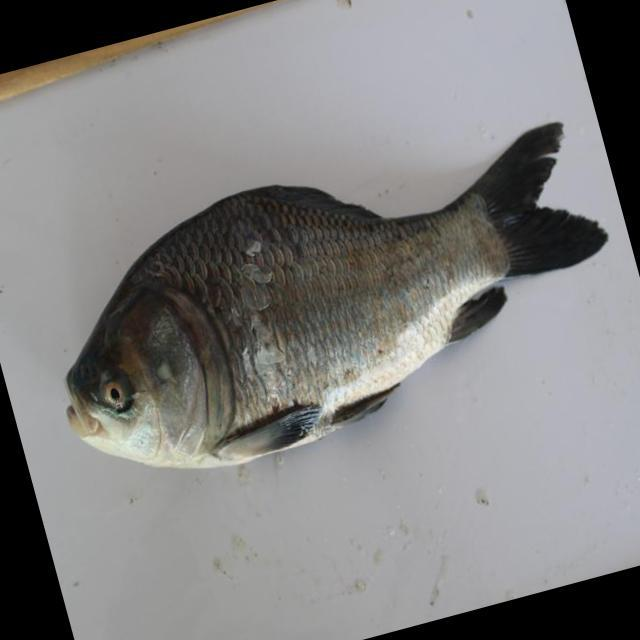Catla: (53, 118, 611, 481)
